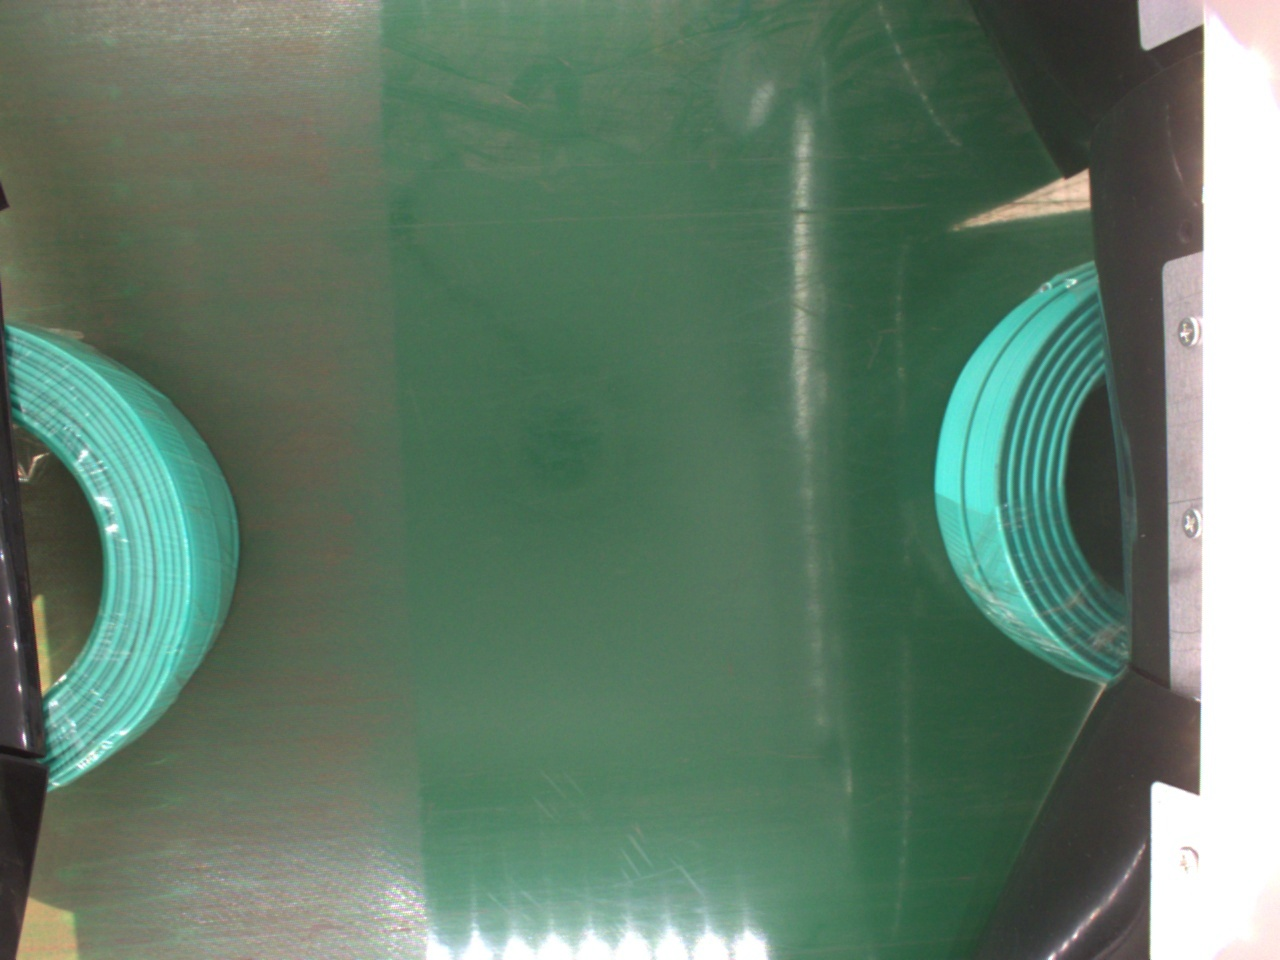green: (7, 320, 232, 791), (935, 259, 1139, 678)
